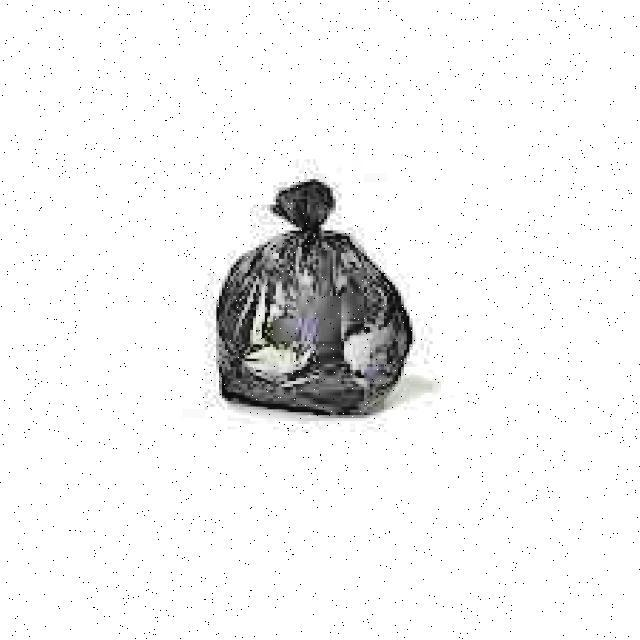Trashbag: (209, 200, 428, 416)
